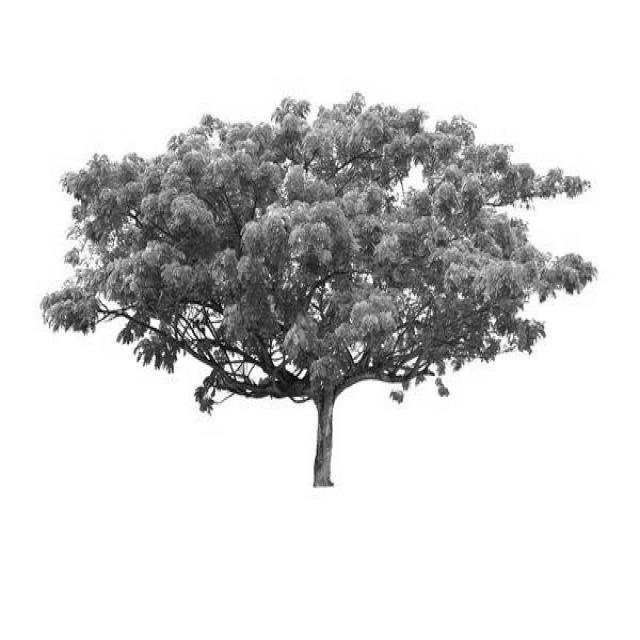Tree: (42, 95, 597, 488)
